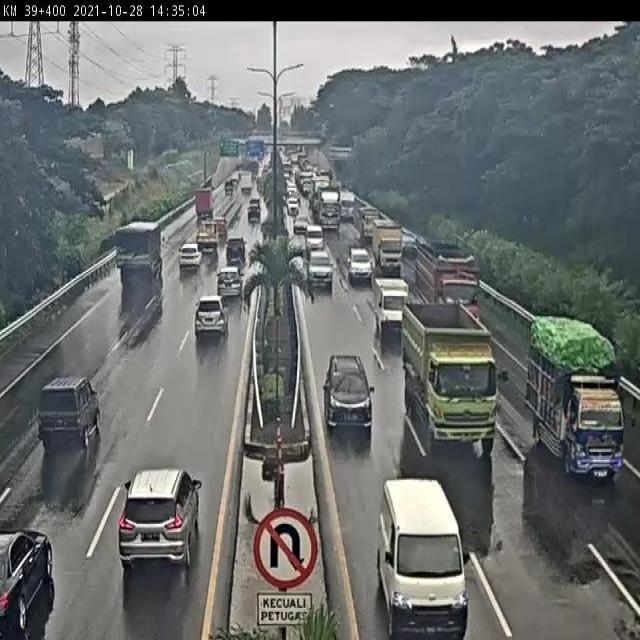big truck: (402, 310, 500, 454), (112, 215, 163, 308), (425, 237, 482, 320)
car: (378, 477, 476, 640), (113, 447, 212, 577), (0, 526, 62, 638), (33, 365, 101, 456), (318, 348, 376, 443), (369, 280, 416, 341), (185, 287, 228, 348), (302, 249, 342, 296), (211, 270, 246, 306), (348, 238, 376, 282), (179, 236, 199, 275), (225, 233, 250, 264), (303, 222, 329, 246), (401, 224, 419, 256), (245, 199, 262, 224)
small truck: (522, 316, 635, 480), (374, 217, 405, 276), (192, 190, 216, 222), (199, 227, 223, 257)
